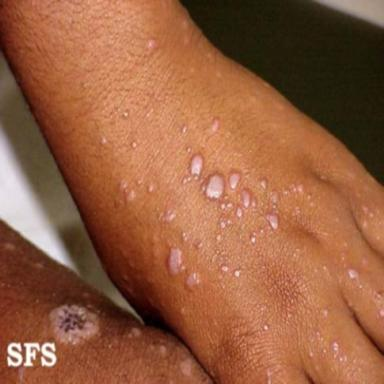lichen: (48, 303, 101, 343), (202, 174, 225, 200), (169, 249, 185, 275), (191, 155, 203, 180), (282, 184, 304, 196), (265, 215, 278, 230), (186, 273, 199, 288), (229, 173, 240, 190), (241, 190, 251, 208), (271, 188, 279, 204), (211, 119, 220, 132), (348, 269, 359, 279), (166, 211, 175, 223), (127, 191, 136, 202), (331, 341, 339, 353), (120, 180, 127, 192), (236, 205, 242, 218), (147, 39, 155, 48), (182, 177, 191, 184), (101, 137, 108, 145), (221, 266, 229, 273), (234, 270, 241, 278), (361, 257, 368, 265), (260, 180, 266, 189), (323, 309, 329, 318), (220, 221, 226, 229), (181, 126, 187, 134), (182, 233, 187, 242), (263, 325, 269, 332), (197, 242, 203, 249), (251, 236, 256, 244), (148, 185, 153, 193), (251, 200, 256, 208), (131, 142, 137, 148), (227, 203, 233, 209), (216, 235, 221, 242), (221, 203, 226, 210), (379, 310, 384, 317), (123, 112, 128, 118), (137, 180, 142, 186), (260, 229, 264, 234), (227, 219, 231, 224), (187, 147, 191, 152), (224, 195, 228, 200)
